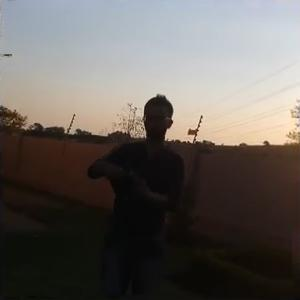follow: (83, 85, 187, 298)
